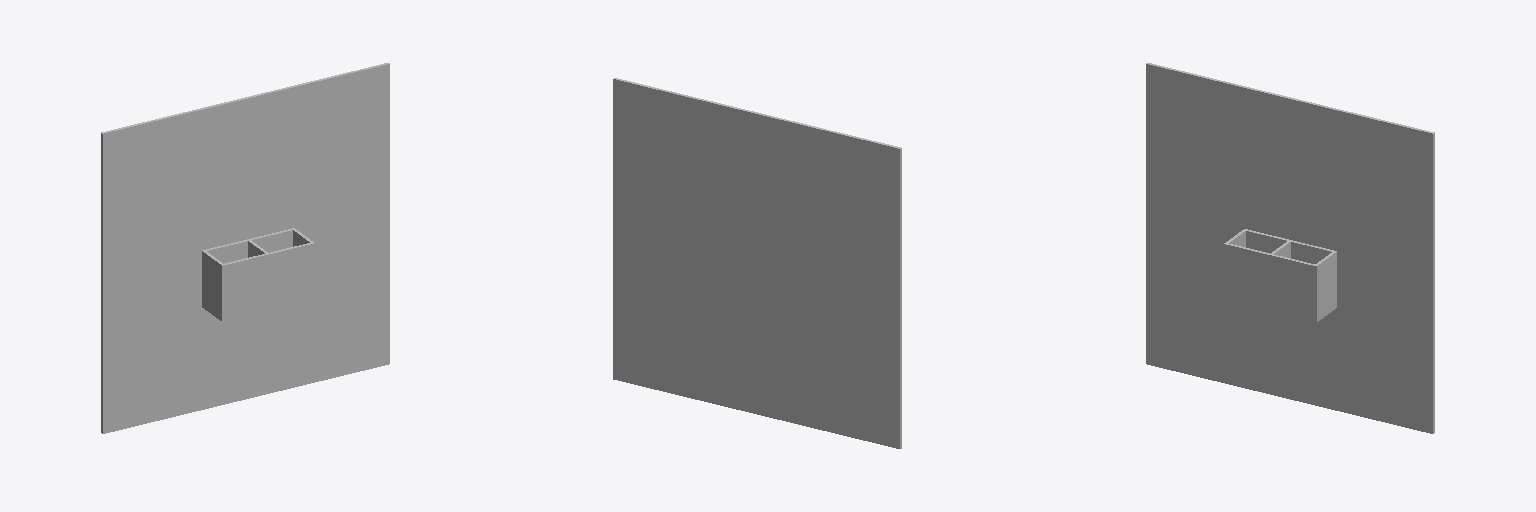
The model's file is tile pared papelera.obj.
3 views of the same model, side by side, from view 1: azimuth 30°, elevation 25°; view 2: azimuth 150°, elevation 25°; view 3: azimuth 330°, elevation 25° (orthographic).
Parts seen in each view (by area): view 1: object 1; view 2: object 1; view 3: object 1.
Part boxes in pixels (x1,y1,x2,y2): object 1: (101,63,389,433); object 1: (613,78,901,448); object 1: (1146,63,1434,433).
Bounding box in the file's own units: 9.6 × 9.6 × 1.3.